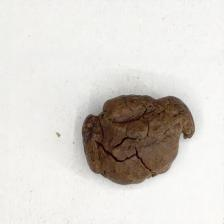NG: (82, 94, 195, 183)
